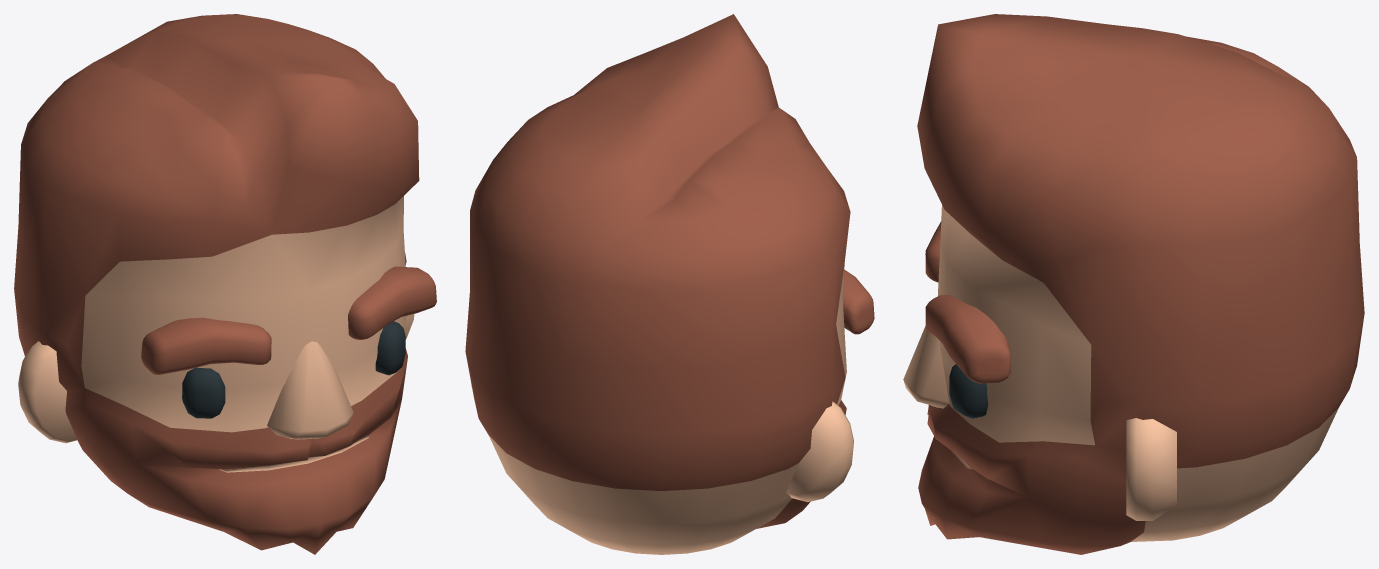
File: character_polarExplorerHeadB.gltf
The picture shows the model from 3 angles, left to right: view 1: azimuth 30°, elevation 25°; view 2: azimuth 150°, elevation 25°; view 3: azimuth 270°, elevation 25°; orthographic projection. The views are drawn at different scales.
Visible parts, largest first — view 1: character_polarExplorerHeadB; view 2: character_polarExplorerHeadB; view 3: character_polarExplorerHeadB.
Part boxes in pixels (x1,y1,x2,y2): character_polarExplorerHeadB: (14,14,436,554); character_polarExplorerHeadB: (465,14,874,554); character_polarExplorerHeadB: (903,14,1364,554).
Bounding box in the file's own units: 1.18 × 1.35 × 1.11.
